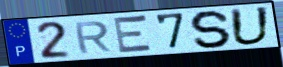2: (35, 20, 71, 60)
7: (154, 12, 187, 51)
E: (112, 14, 155, 56)
R: (73, 20, 114, 55)
S: (189, 9, 234, 49)
U: (229, 5, 273, 47)
